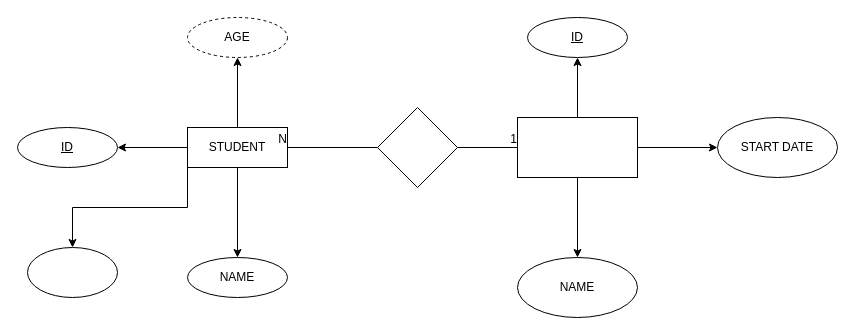
Image size: 855x335. Some labels were removed from this diagram. The box of each missing label's shape, as (x1, y1, x2, y2) in pixels:
Batch: (516, 116, 638, 178)
DOB: (26, 246, 118, 298)
JOINS: (376, 106, 458, 188)
